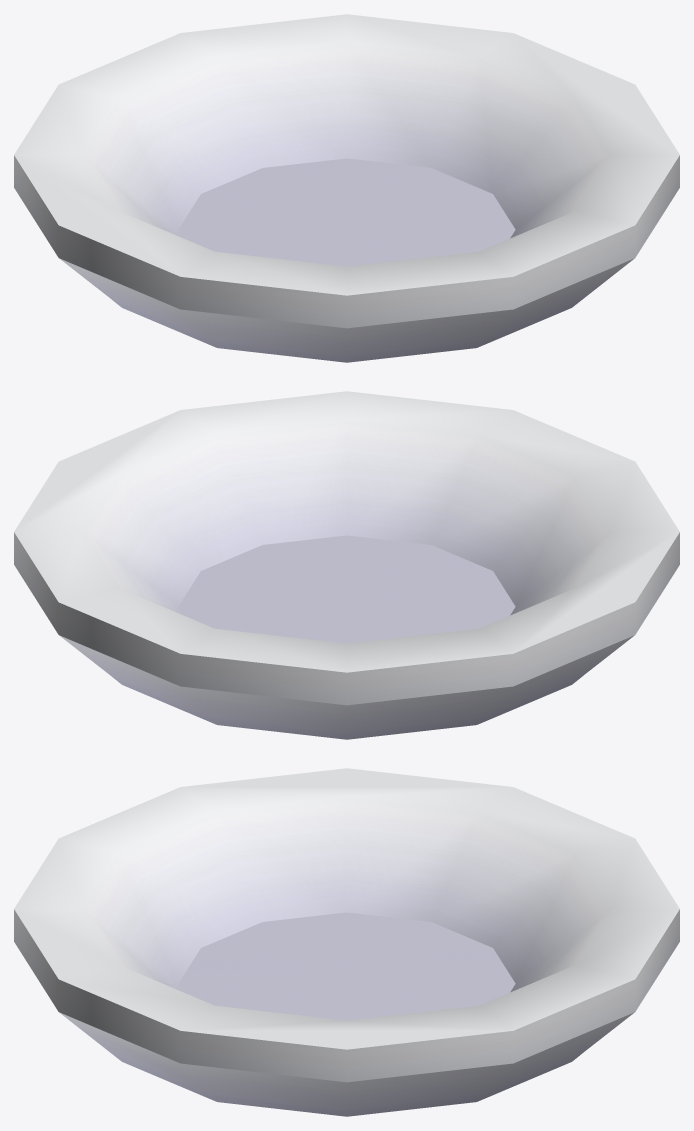
Rendered from plate-deep.glb.
3 renders of one model, top to bottom at view 1: azimuth 30°, elevation 25°; view 2: azimuth 150°, elevation 25°; view 3: azimuth 270°, elevation 25°, orthographic.
Visible parts, largest first — view 1: plate-deep; view 2: plate-deep; view 3: plate-deep.
Boxes of the visible parts, box(x1,y1,x2,y2) form: plate-deep: box(14, 14, 679, 362); plate-deep: box(14, 391, 679, 739); plate-deep: box(14, 768, 679, 1116).
Bounding box in the file's own units: 0.8918 × 0.1449 × 0.8918.
Materials: 1 (1 with a texture image).
